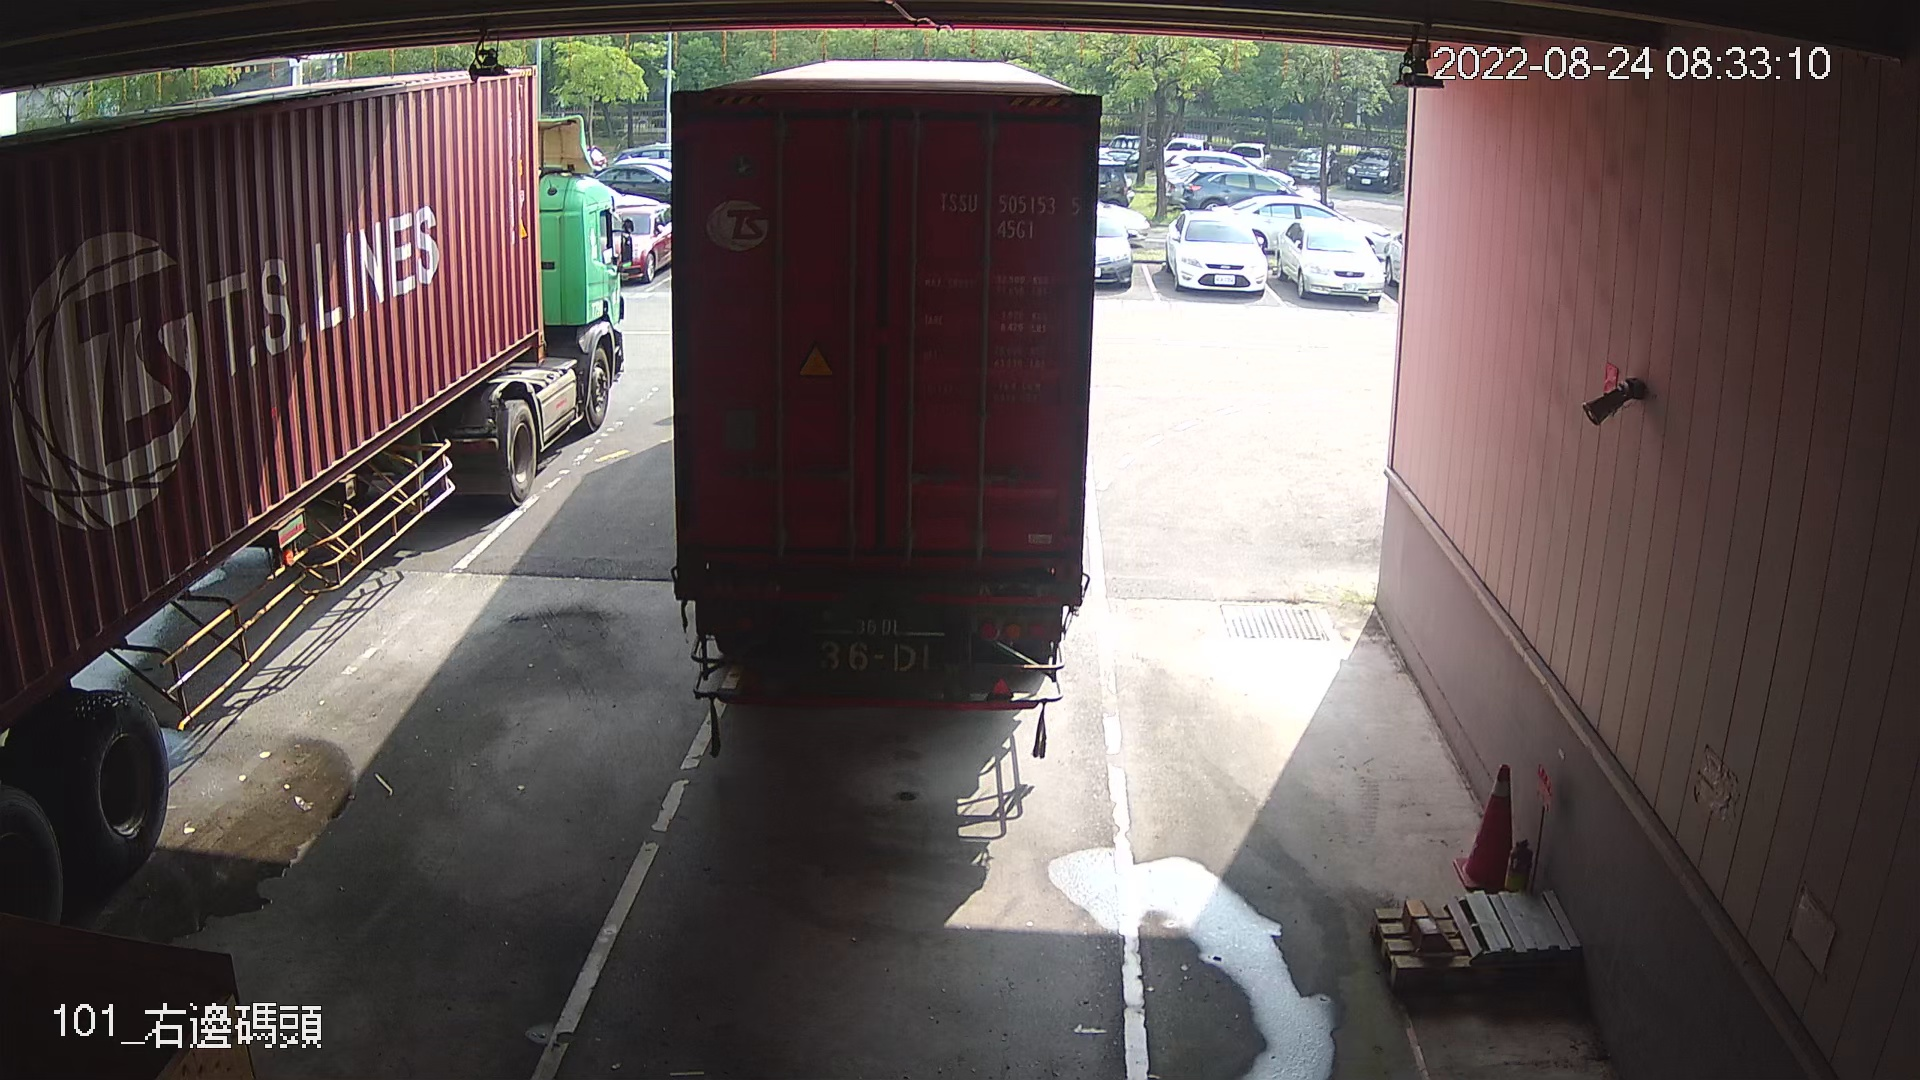container: (928, 179, 1087, 248)
